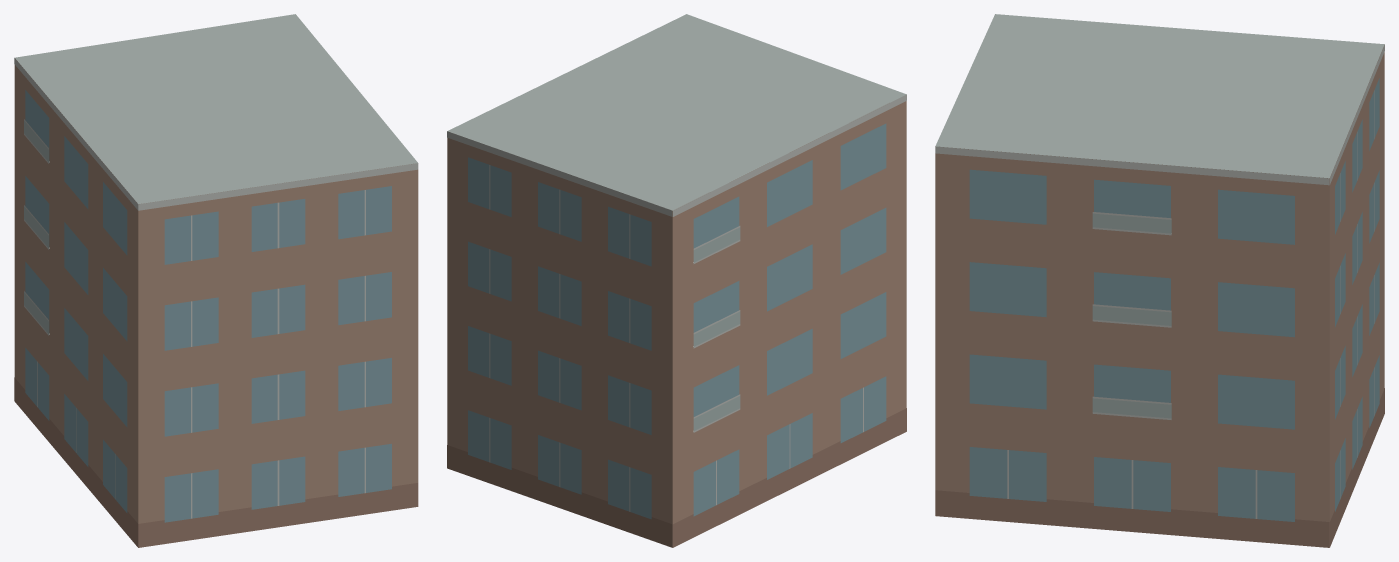
File: survey-upis-32663392.glb
3 renders of one model, left to right at view 1: azimuth 30°, elevation 25°; view 2: azimuth 150°, elevation 25°; view 3: azimuth 270°, elevation 25°, orthographic. The views are drawn at different scales.
Visible parts, largest first — view 1: survey-upis-32663392.tmp; view 2: survey-upis-32663392.tmp; view 3: survey-upis-32663392.tmp.
Part boxes in pixels (x1,y1,x2,y2): survey-upis-32663392.tmp: (14, 14, 418, 547); survey-upis-32663392.tmp: (447, 14, 906, 547); survey-upis-32663392.tmp: (935, 14, 1384, 547).
Size of the model in its own units: 12.21 by 12.8 by 14.12.
